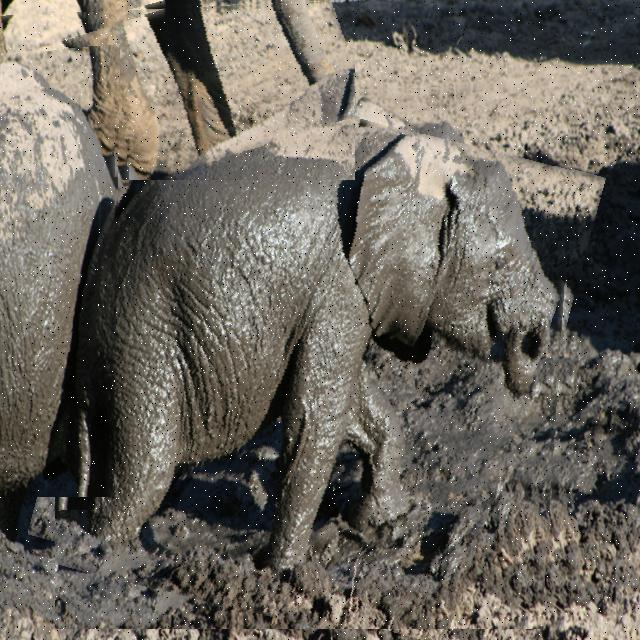elephant: (55, 83, 578, 629), (0, 0, 355, 180), (0, 44, 120, 497)
